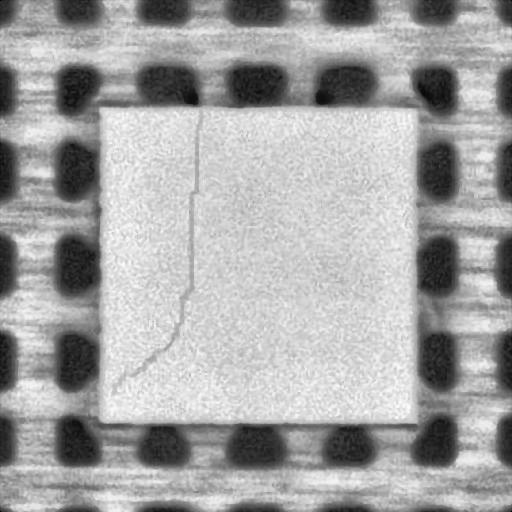DIE_CRACK: (110, 108, 204, 397)
